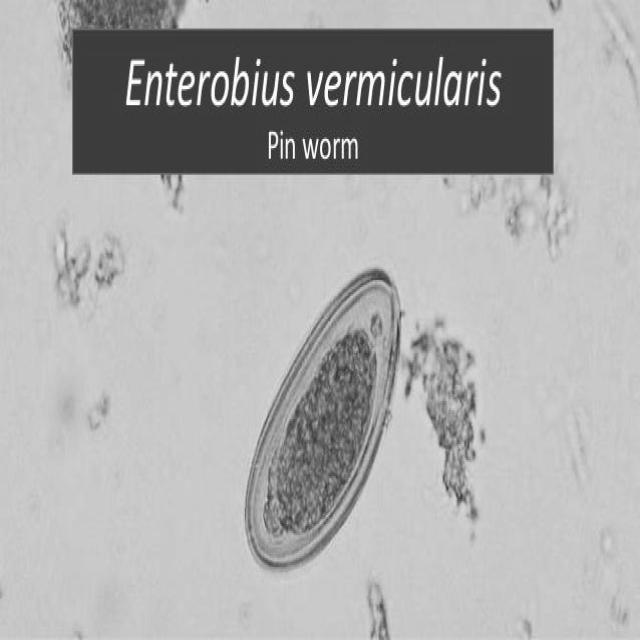Enterobius Vermicularis: (240, 260, 405, 588)
